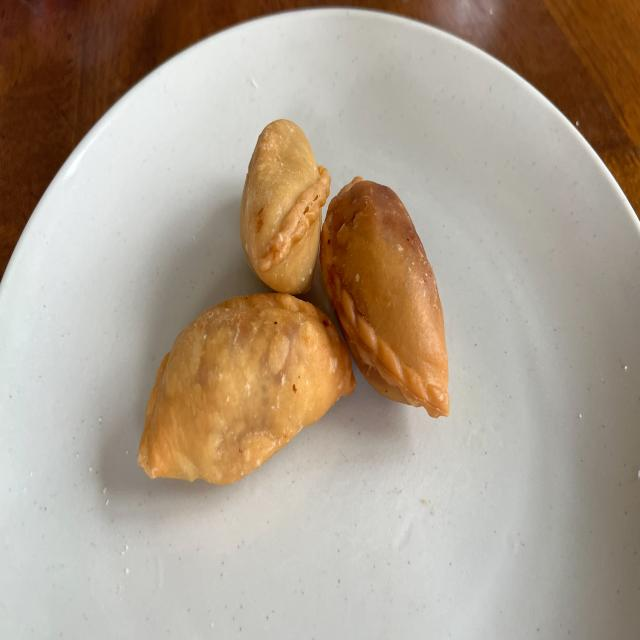karipap: (138, 293, 355, 484), (320, 178, 450, 418), (240, 120, 330, 293)
